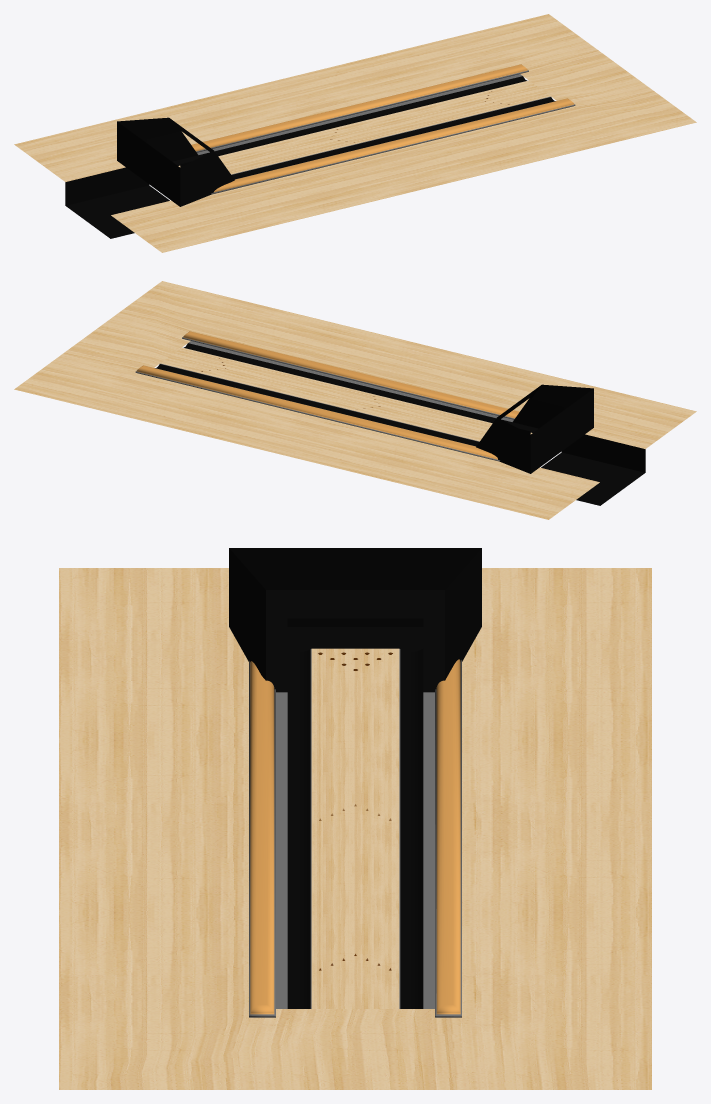
File: Bowling.fbx
3 renders of one model, top to bottom at view 1: azimuth 30°, elevation 25°; view 2: azimuth 150°, elevation 25°; view 3: azimuth 270°, elevation 25°, orthographic. The views are drawn at different scales.
Visible parts, largest first — view 1: Room, Alley, Blocker, Alley.001; view 2: Room, Alley, Blocker, Alley.001; view 3: Room, Alley, Alley.001, Blocker.
Part boxes in pixels (x1=…): Room: x1=14, y1=14, x2=696, y2=252; Alley: x1=172, y1=74, x2=555, y2=179; Blocker: x1=191, y1=64, x2=575, y2=194; Alley.001: x1=117, y1=117, x2=234, y2=206; Room: x1=14, y1=281, x2=696, y2=519; Alley: x1=155, y1=341, x2=538, y2=446; Blocker: x1=135, y1=331, x2=519, y2=461; Alley.001: x1=476, y1=384, x2=593, y2=473; Room: x1=59, y1=568, x2=651, y2=1089; Alley: x1=276, y1=648, x2=434, y2=1008; Alley.001: x1=229, y1=548, x2=481, y2=692; Blocker: x1=249, y1=659, x2=461, y2=1017.
Bounding box in the file's own units: 5651 × 637 × 2712.
Materials: 5 (2 with a texture image).
